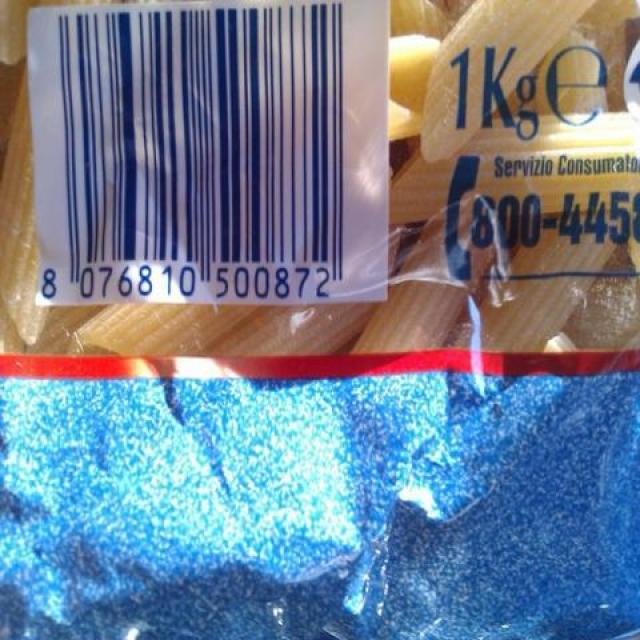Barcode: (23, 3, 385, 301)
